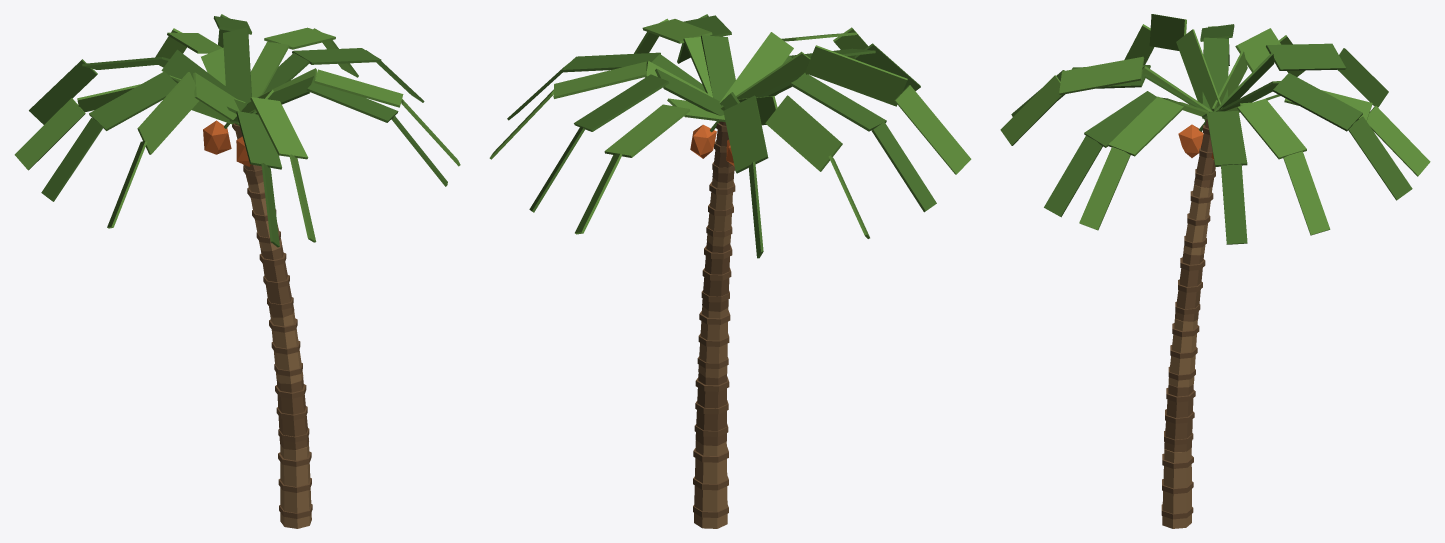
Rendered from palm_1.glb.
3 views of the same model, side by side, from view 1: azimuth 30°, elevation 25°; view 2: azimuth 150°, elevation 25°; view 3: azimuth 270°, elevation 25° (orthographic). The views are drawn at different scales.
Visible parts, largest first — view 1: palm_1; view 2: palm_1; view 3: palm_1.
Part boxes in pixels (x1,y1,x2,y2): palm_1: (14, 14, 460, 528); palm_1: (489, 14, 971, 528); palm_1: (1000, 14, 1430, 528).
Size of the model in its own units: 9.23 by 10.9 by 9.33.
